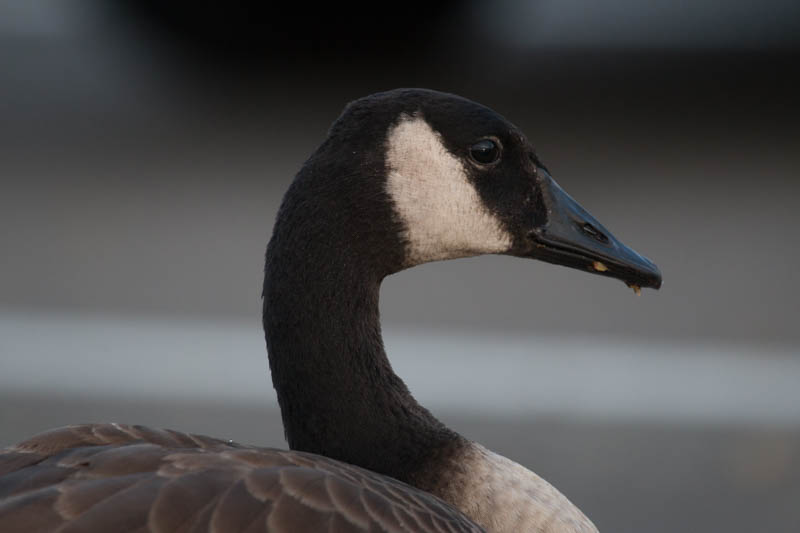goose-head: (317, 85, 666, 291)
